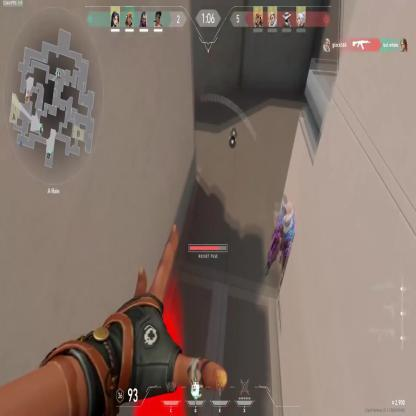enemy: (264, 195, 296, 293)
enemy_head: (284, 212, 292, 226)
